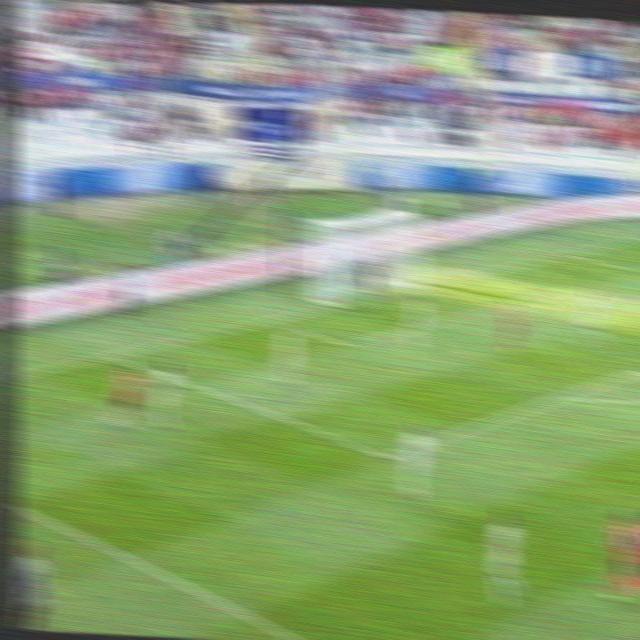bigarea_bottom_inner: (368, 443, 404, 473)
bigarea_bottom_outter: (90, 342, 128, 369)
bigarea_top_outter: (555, 246, 580, 264)
bottom_arc_area_intersection: (548, 386, 577, 409)
smallarea_bottom_inner: (339, 336, 360, 352)
smallarea_bottom_outter: (255, 311, 287, 333)
smallarea_top_inner: (529, 284, 557, 309)
smallarea_top_outter: (458, 268, 487, 287)
